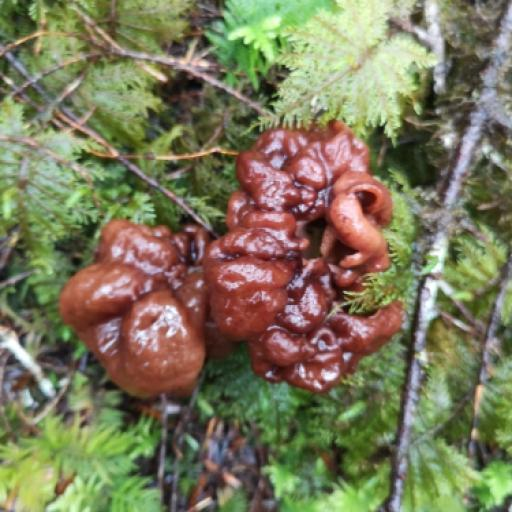mushroom: (60, 114, 430, 453)
